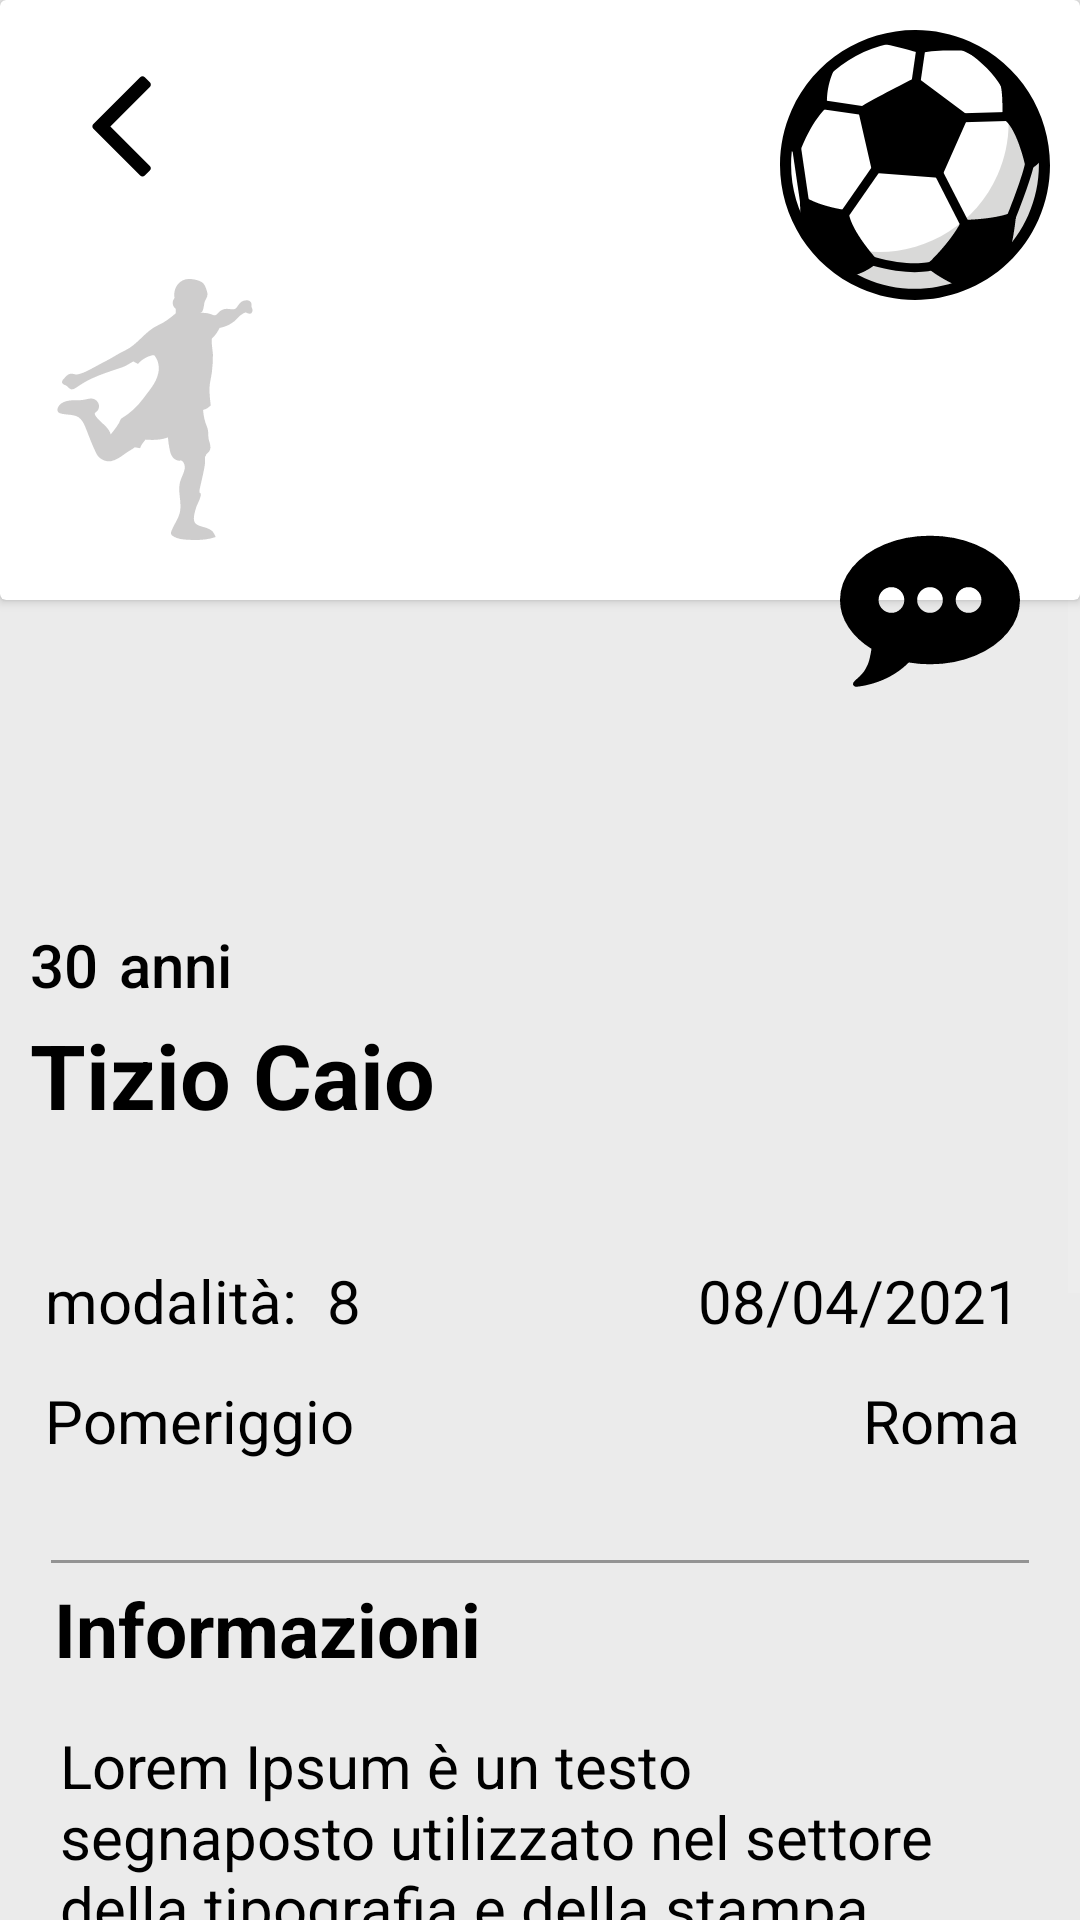

Icons on this 1080 × 1920 Android screen, each with the point to tap as (x=x, y=y):
back: (x=121, y=126)
ball soccer: (x=915, y=165)
player soccer: (x=155, y=409)
